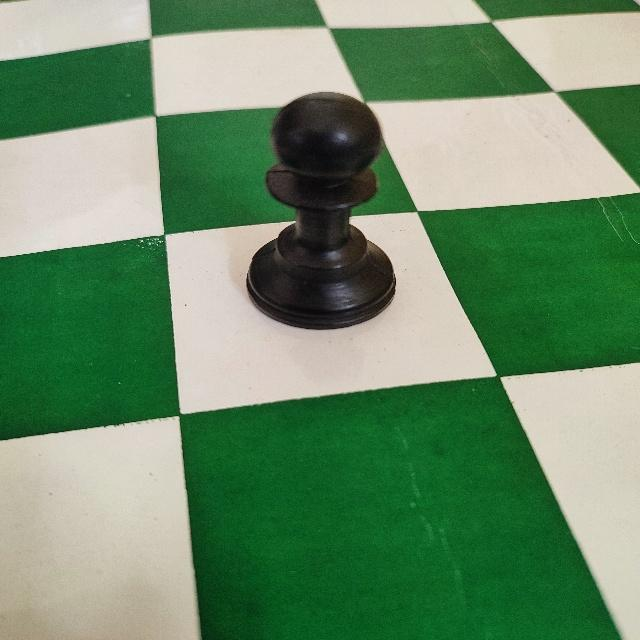Pawn: (245, 89, 399, 332)
